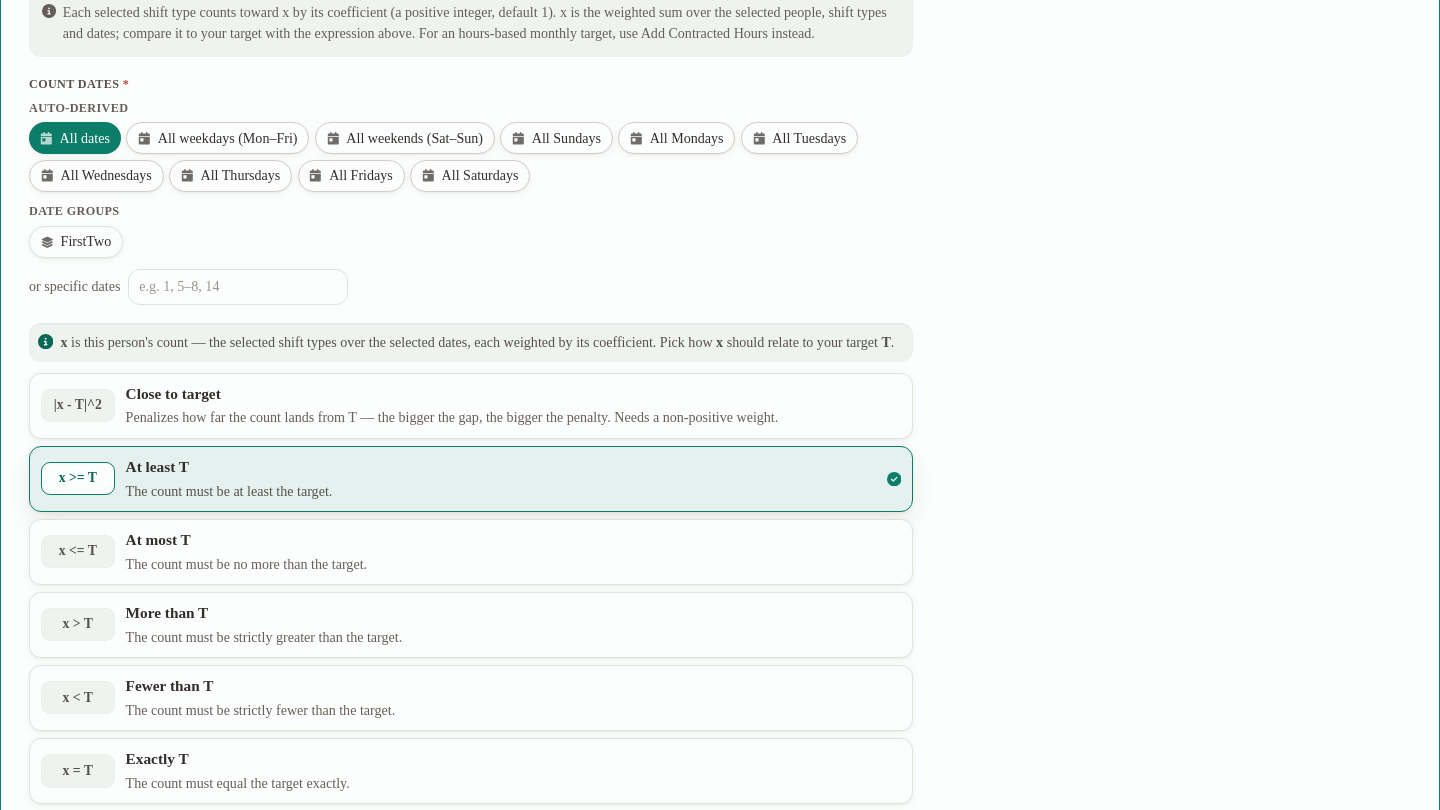
Scenario: Count weight sentence (C1) › switching an untouched default to the squared form keeps -1
(page scrolled)
Click the button with test id "expression-field-op-sq".
click(78, 406)  # box [29,373,913,439]
(page scrolled)
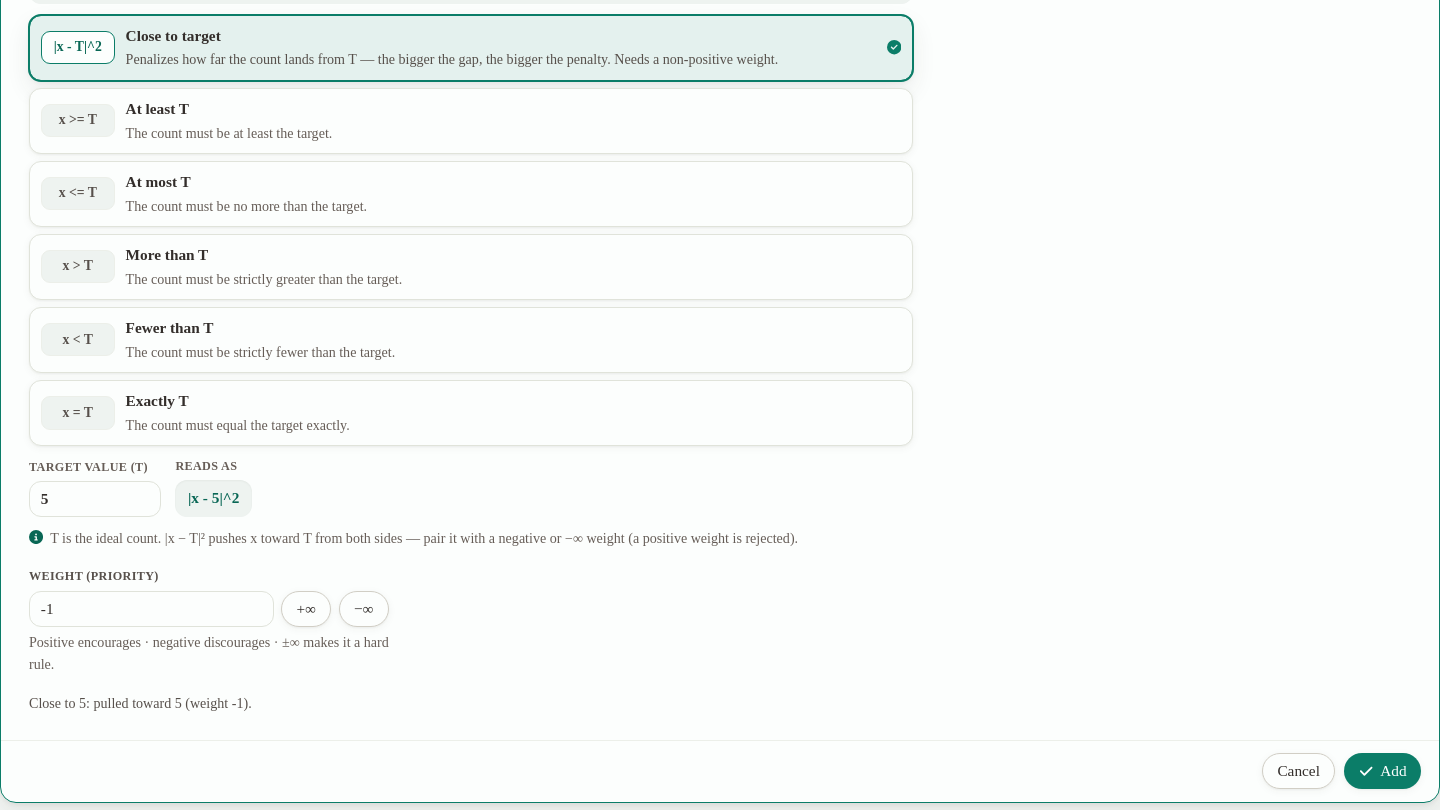
Now the field with test id "weight-field-input" holds "-1", box [29,591,274,627]
Now the text with test id "count-strength" reads "Close to 5: pulled toward 5 (weight -1).", box [29,695,252,711]
